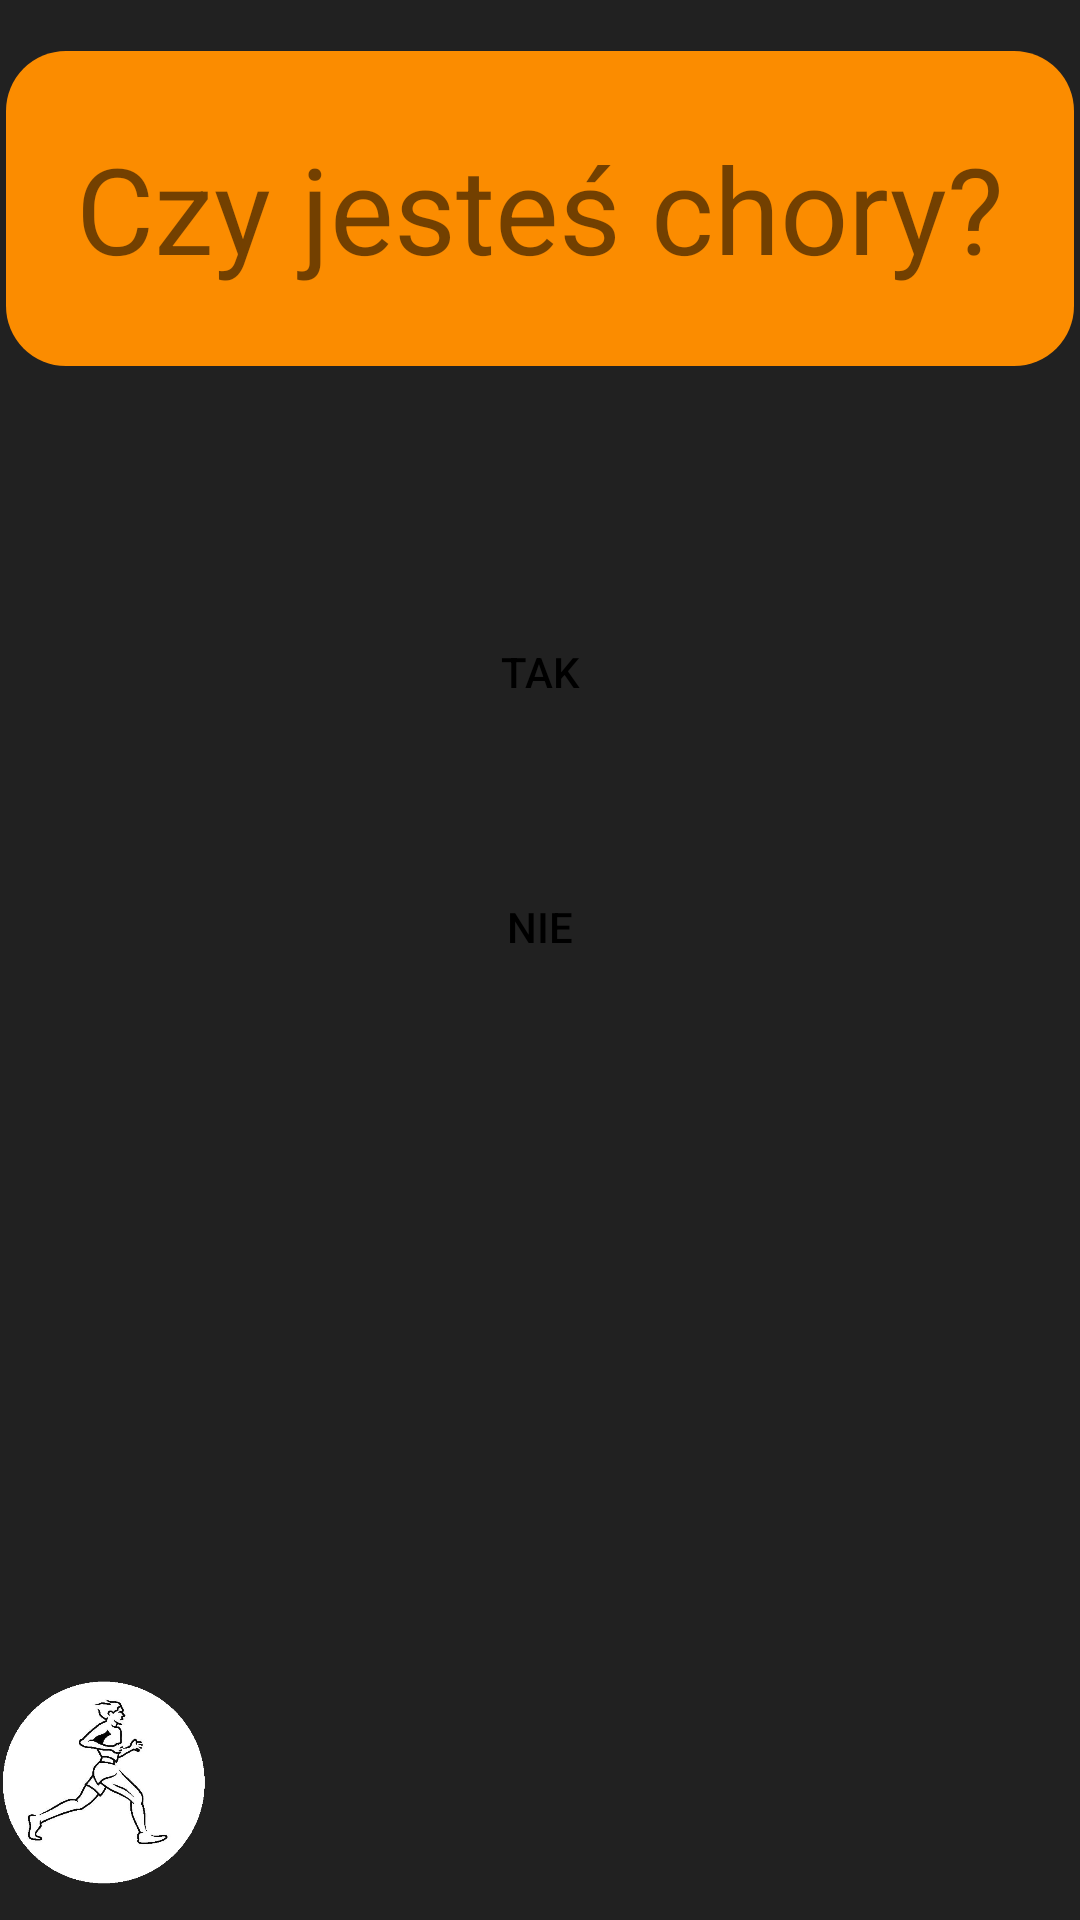

Named icons in this screenshot (1080px x 1920px) and their bounding boxes, (x1, y1, x2, y2):
biegaczz: (3, 1681, 205, 1884)
